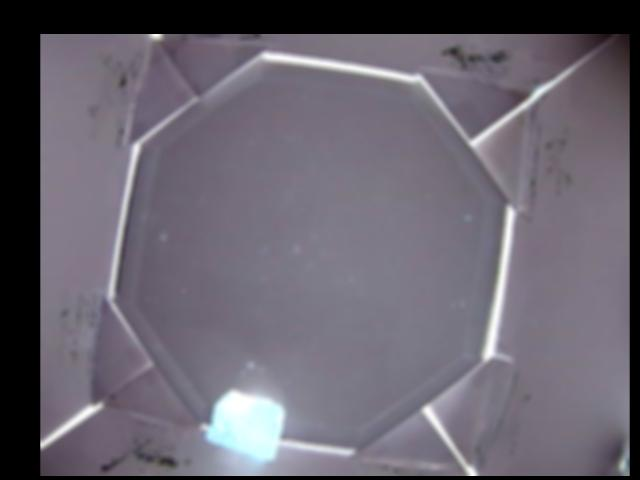Brisk: (207, 390, 281, 460)
